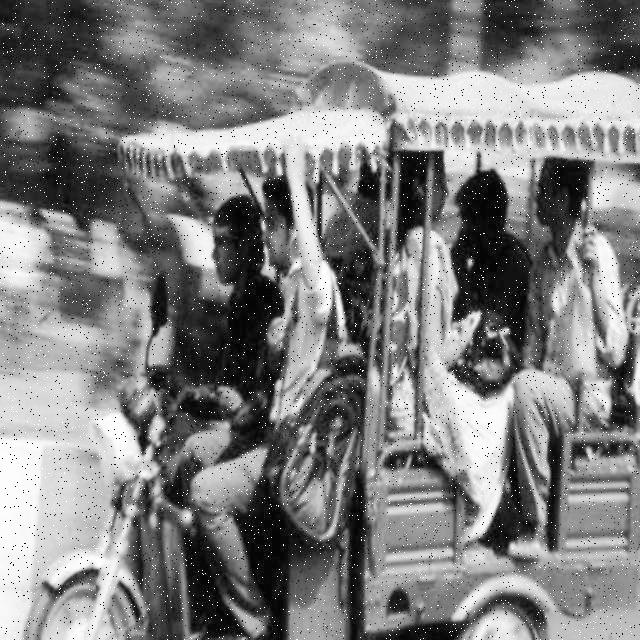Toto: (29, 65, 639, 639)
